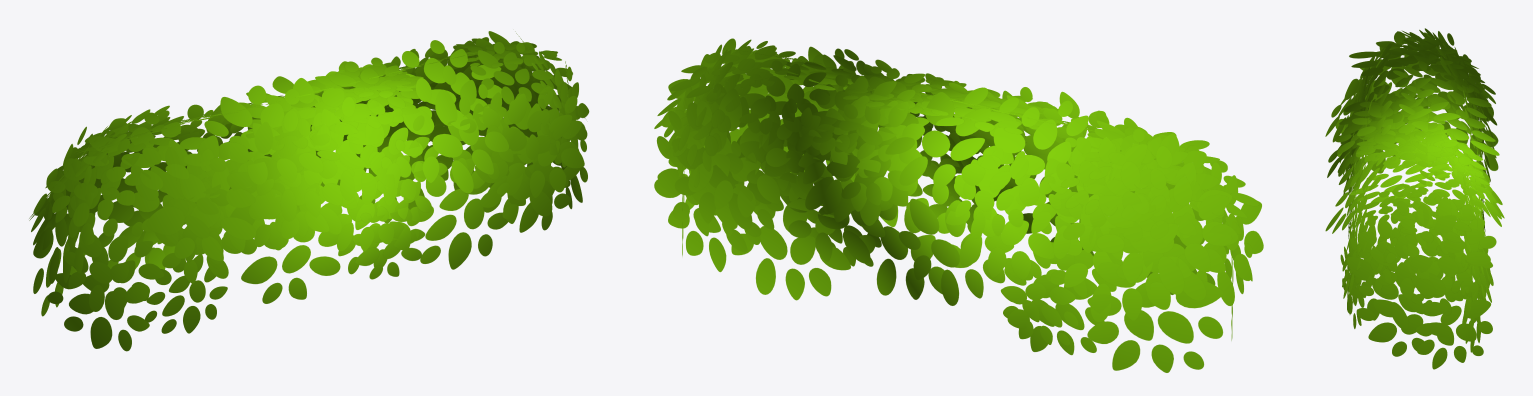
The model's file is Bush_Small.glb.
3 renders of one model, left to right at view 1: azimuth 30°, elevation 25°; view 2: azimuth 150°, elevation 25°; view 3: azimuth 270°, elevation 25°, orthographic. The views are drawn at different scales.
Visible parts, largest first — view 1: Bush_Small; view 2: Bush_Small; view 3: Bush_Small.
Boxes of the visible parts, bbox=[...] form: Bush_Small: bbox=[29, 31, 589, 351]; Bush_Small: bbox=[654, 38, 1263, 372]; Bush_Small: bbox=[1325, 28, 1504, 369].
Size of the model in its own units: 1.9 by 0.7784 by 0.7238.
1 material, 1 textured.
